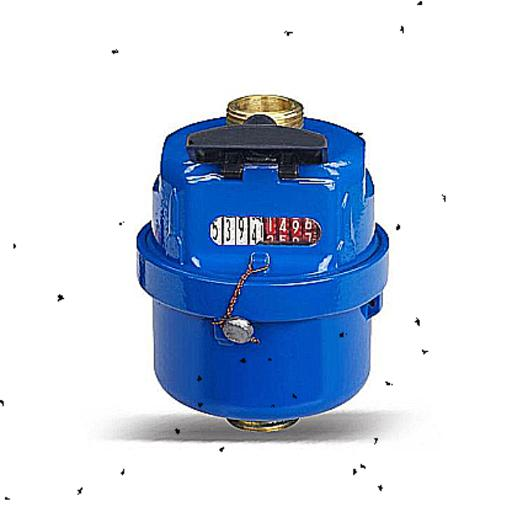1: (265, 218, 276, 244)
3: (224, 218, 235, 245)
4: (250, 219, 263, 244), (279, 219, 290, 244)
5: (211, 217, 222, 244)
6: (304, 219, 322, 244)
9: (237, 217, 248, 243), (291, 218, 302, 243)
border_water_meter_number: (210, 217, 323, 246)
